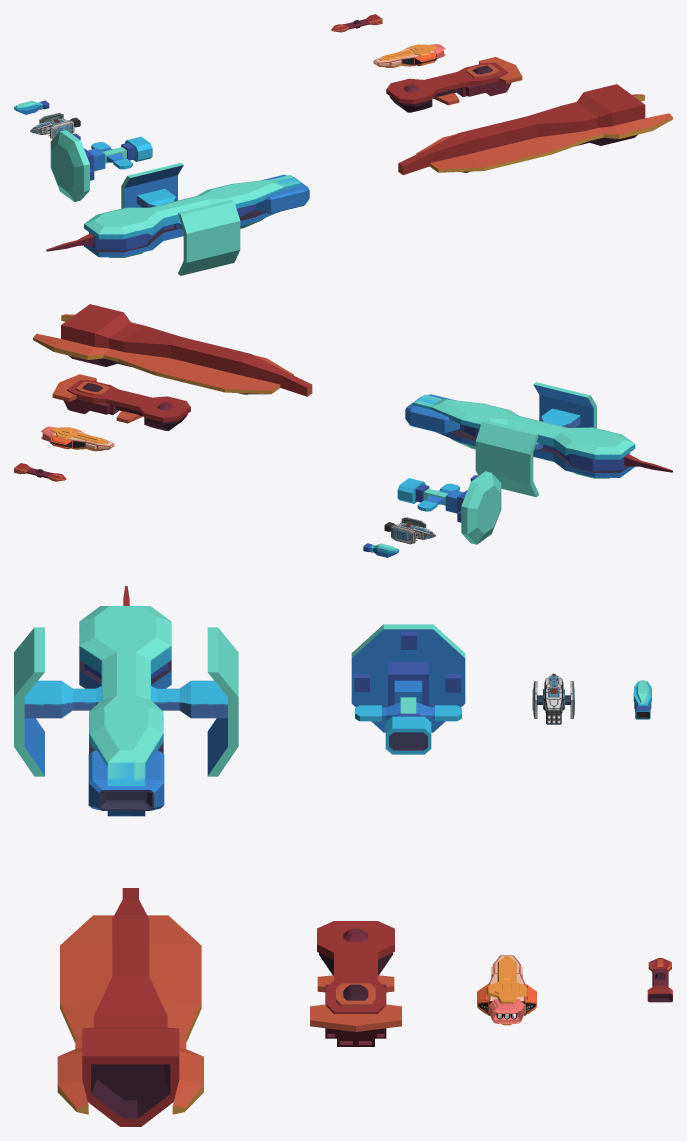
Rendered from sketchy_sketch.fbx.
3 views of the same model, one above another, from view 1: azimuth 30°, elevation 25°; view 2: azimuth 150°, elevation 25°; view 3: azimuth 270°, elevation 25° (orthographic). The views are drawn at different scales.
Visible parts, largest first — view 1: Cube.016, Plane, Plane.002, ship_3, Cube.003, ship_4, Plane.004, Plane.003, Ship_2_regen_1, Cube.001, Cube.017; view 2: Cube.016, Plane, Plane.004, ship_3, Cube.003, ship_4, Plane.002, Plane.001, Ship_2_regen_1, Cube.001, Cube.017, Ship_2_main (+1 smaller); view 3: Cube.016, Plane, ship_3, Cube.003, Plane.004, ship_4, Plane.002, Plane.001, Plane.003, Cube.001, Ship_2_regen_1, Cube.017.
Boxes of the visible parts, <box> form: Cube.016: <box>398,84,672,175</box>; Plane: <box>46,174,309,257</box>; Plane.002: <box>178,200,240,275</box>; ship_3: <box>50,130,152,201</box>; Cube.003: <box>386,62,507,104</box>; ship_4: <box>389,57,522,112</box>; Plane.004: <box>121,163,183,208</box>; Plane.003: <box>137,188,175,207</box>; Ship_2_regen_1: <box>379,44,436,60</box>; Cube.001: <box>91,142,132,169</box>; Cube.017: <box>331,14,382,32</box>; Cube.016: <box>33,304,312,396</box>; Plane: <box>405,394,672,478</box>; Plane.004: <box>475,420,539,496</box>; ship_3: <box>397,471,501,544</box>; Cube.003: <box>67,380,190,422</box>; ship_4: <box>52,374,187,430</box>; Plane.002: <box>533,382,596,428</box>; Plane.001: <box>541,408,580,427</box>; Ship_2_regen_1: <box>50,427,108,443</box>; Cube.001: <box>417,483,459,511</box>; Cube.017: <box>14,463,66,481</box>; Ship_2_main: <box>51,427,114,450</box>; Cube.016: <box>57,888,203,1126</box>; Plane: <box>79,586,171,816</box>; ship_3: <box>351,624,465,754</box>; Cube.003: <box>317,921,394,1013</box>; Plane.004: <box>207,627,238,776</box>; ship_4: <box>310,953,401,1046</box>; Plane.002: <box>14,627,44,776</box>; Plane.001: <box>24,680,101,718</box>; Plane.003: <box>151,680,227,718</box>; Cube.001: <box>355,702,461,721</box>; Ship_2_regen_1: <box>486,955,527,1003</box>; Cube.017: <box>647,958,672,1002</box>.
Bounding box in the file's own units: 8941 × 850 × 4866.
